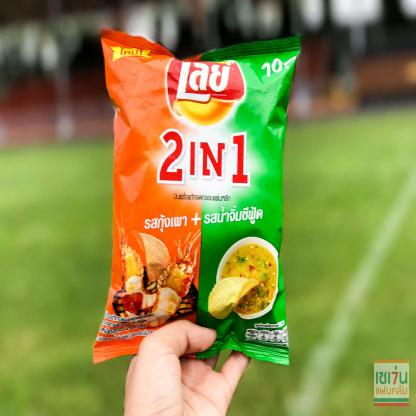potatochip: (89, 22, 307, 372)
